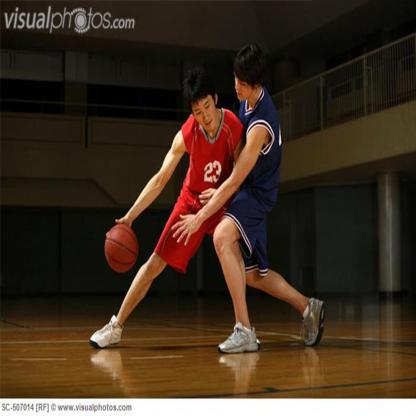face: (195, 100, 215, 132), (236, 74, 254, 101)
